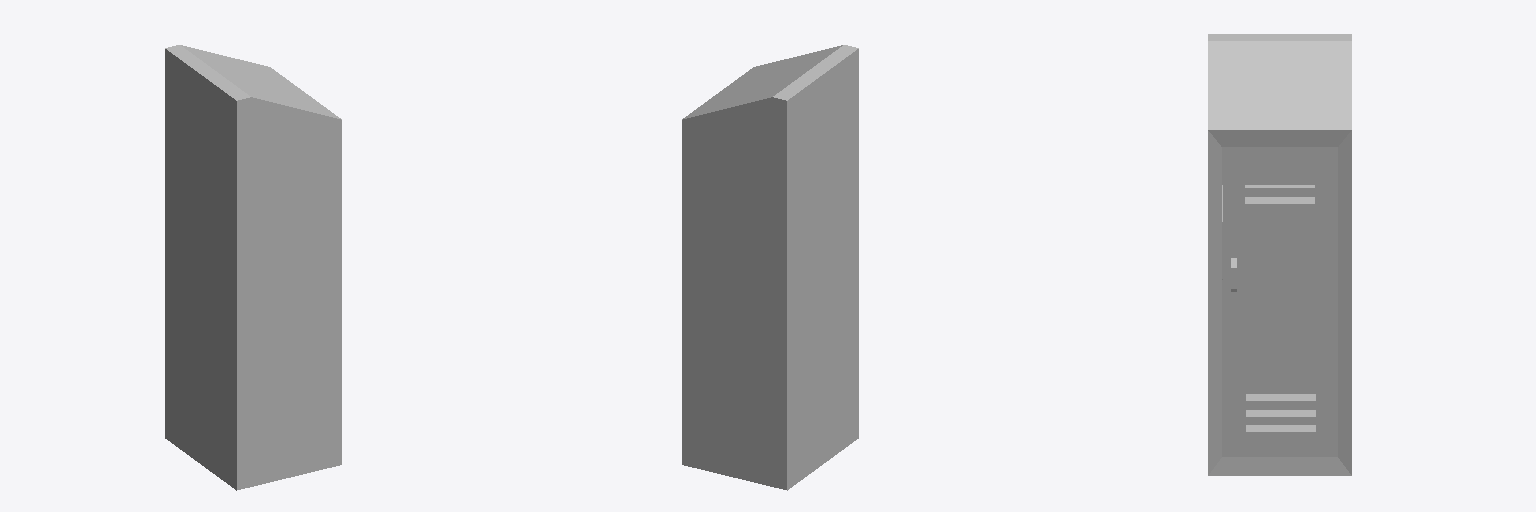
The model's file is lockerbase.obj.
3 renders of one model, left to right at view 1: azimuth 30°, elevation 25°; view 2: azimuth 150°, elevation 25°; view 3: azimuth 270°, elevation 25°, orthographic.
Visible parts, largest first — view 1: Cube; view 2: Cube; view 3: Cube.004, Cube.
Boxes of the visible parts, box(x1,y1,x2,y2) form: Cube: box(165, 45, 341, 490); Cube: box(682, 45, 858, 490); Cube.004: box(1222, 147, 1337, 456); Cube: box(1208, 34, 1351, 475).
Bounding box in the file's own units: 1.78 × 6 × 2.